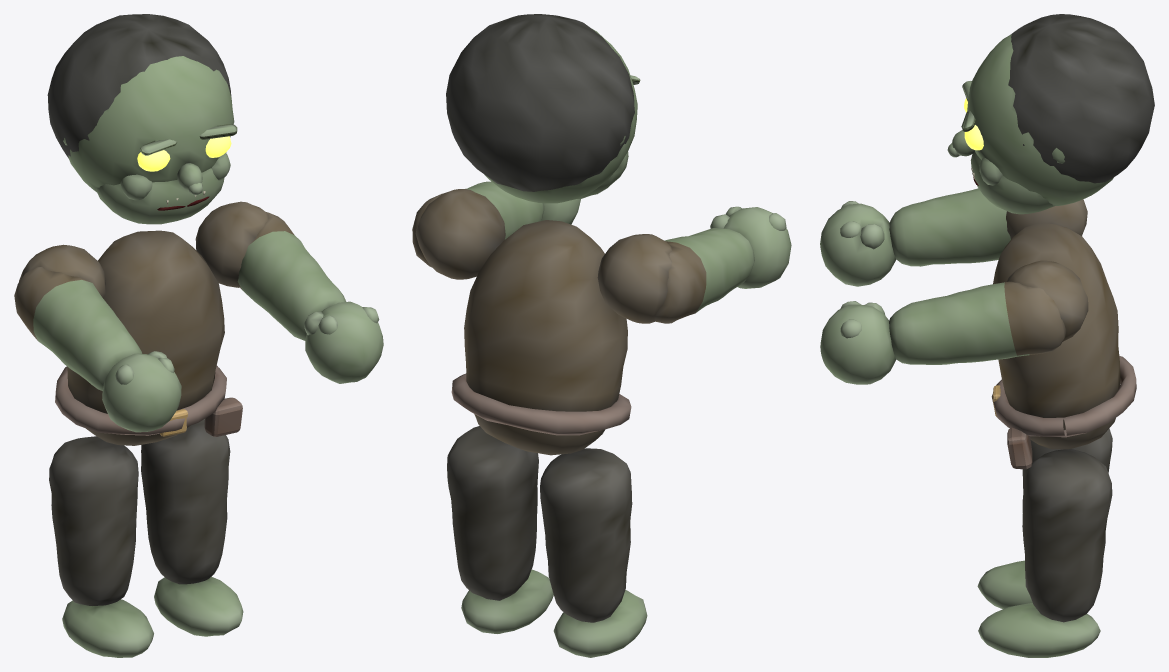
The picture shows the model from 3 angles, left to right: view 1: azimuth 30°, elevation 25°; view 2: azimuth 150°, elevation 25°; view 3: azimuth 270°, elevation 25°; orthographic projection. The views are drawn at different scales.
Visible parts, largest first — view 1: head, torso, legR, legL, armR, armL; view 2: torso, head, legR, legL, armR, armL; view 3: head, torso, legL, armL, armR, legR.
Boxes of the visible parts, x1,y1,x2,y2 form: head: (47, 14, 237, 224); torso: (19, 201, 268, 445); legR: (49, 436, 153, 657); legL: (141, 419, 243, 636); armR: (14, 267, 181, 432); armL: (237, 212, 383, 383); torso: (415, 189, 672, 455); head: (446, 14, 640, 203); legR: (540, 448, 647, 657); legL: (447, 426, 553, 633); armR: (654, 206, 791, 323); armL: (412, 181, 580, 267); head: (947, 14, 1154, 214); torso: (991, 199, 1136, 469); legL: (978, 449, 1112, 657); armL: (820, 281, 1066, 384); armR: (820, 188, 1010, 286); legR: (977, 428, 1112, 609).
Bounding box in the file's own units: 0.4472 × 0.956 × 0.477.
